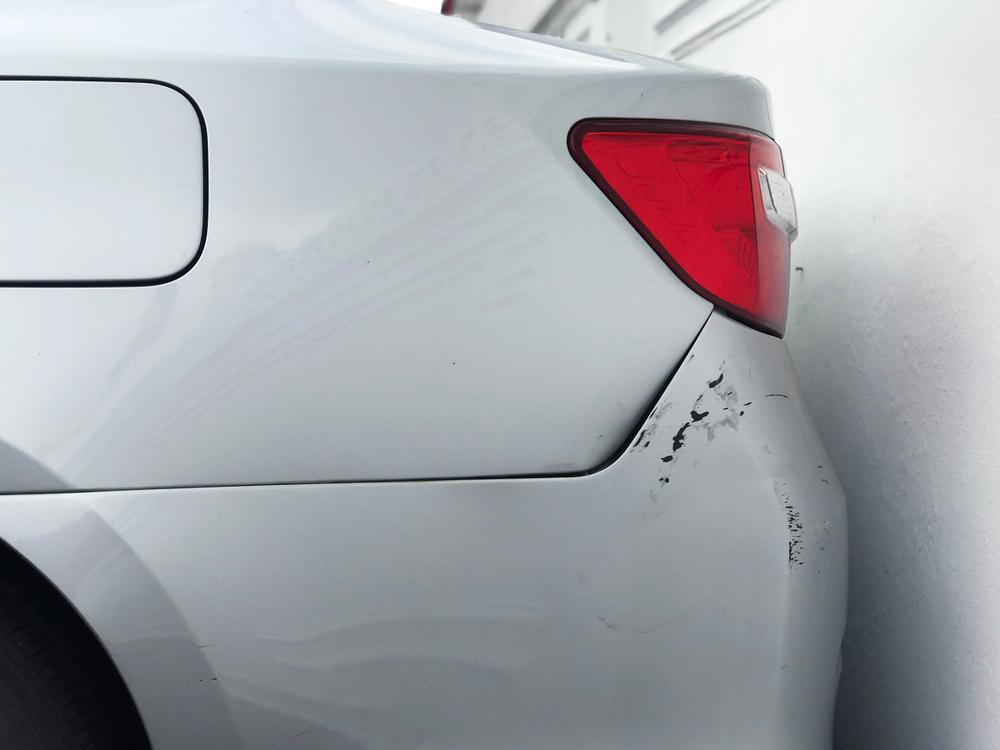scratch: (632, 350, 834, 576)
